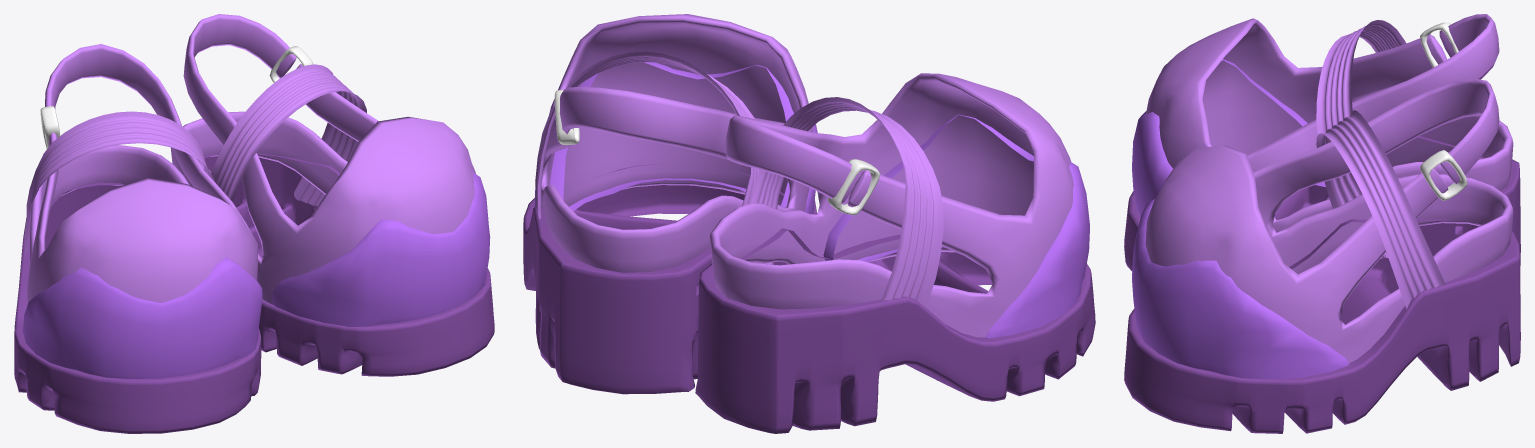
Rendered from Pumps_Hill_Purple.glb.
3 views of the same model, side by side, from view 1: azimuth 30°, elevation 25°; view 2: azimuth 150°, elevation 25°; view 3: azimuth 270°, elevation 25° (orthographic). The views are drawn at different scales.
Visible parts, largest first — view 1: Pumps_Hill; view 2: Pumps_Hill; view 3: Pumps_Hill.
Part boxes in pixels (x1,y1,x2,y2): Pumps_Hill: [14, 14, 494, 433]; Pumps_Hill: [523, 14, 1095, 433]; Pumps_Hill: [1124, 14, 1520, 433].
Size of the model in its own units: 0.0396 by 0.0215 by 0.0288.
